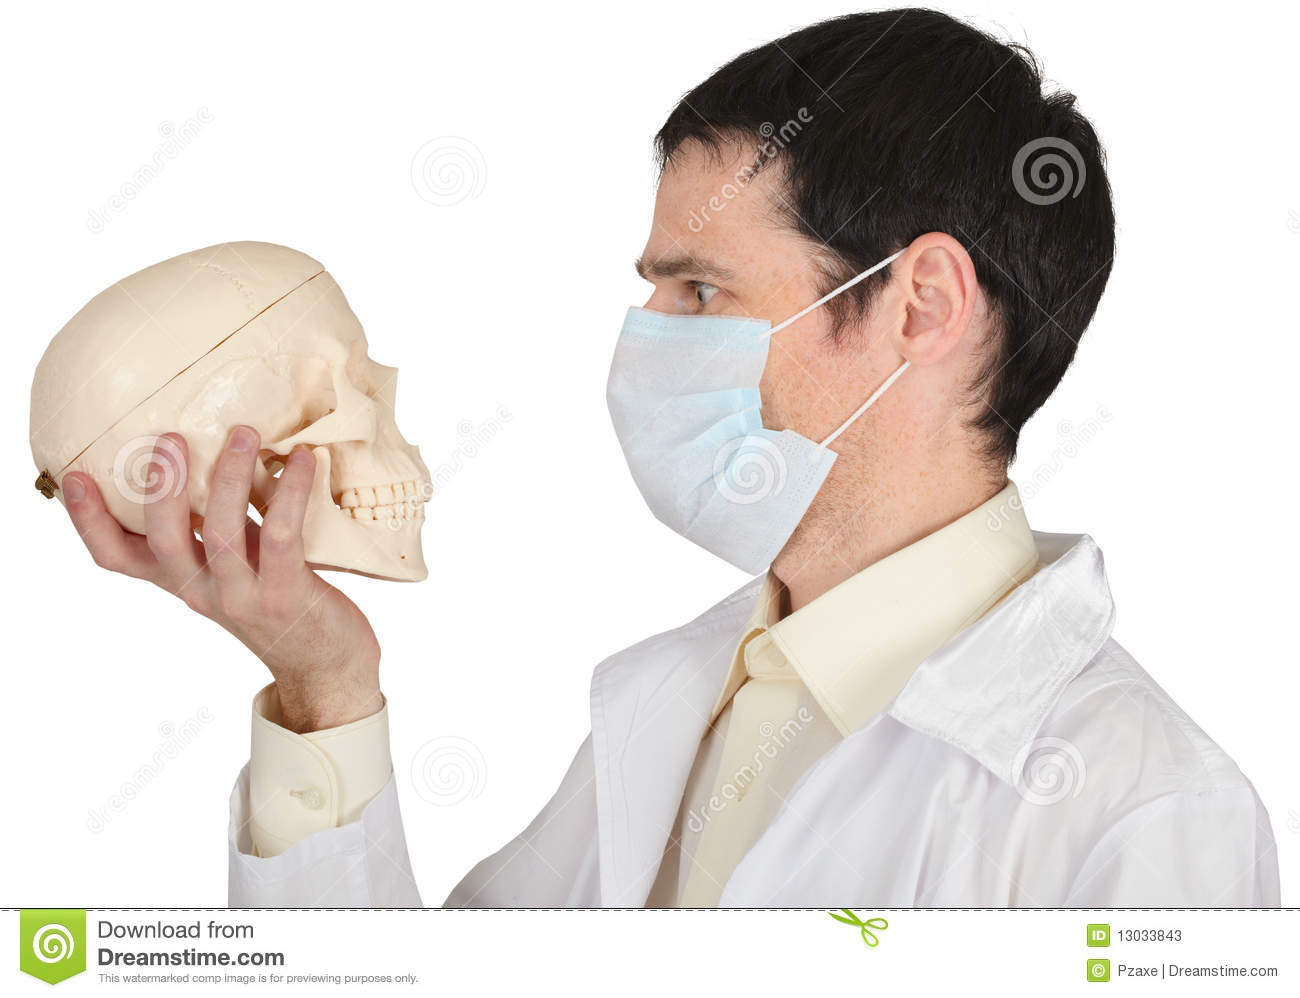mask: (588, 302, 811, 574)
